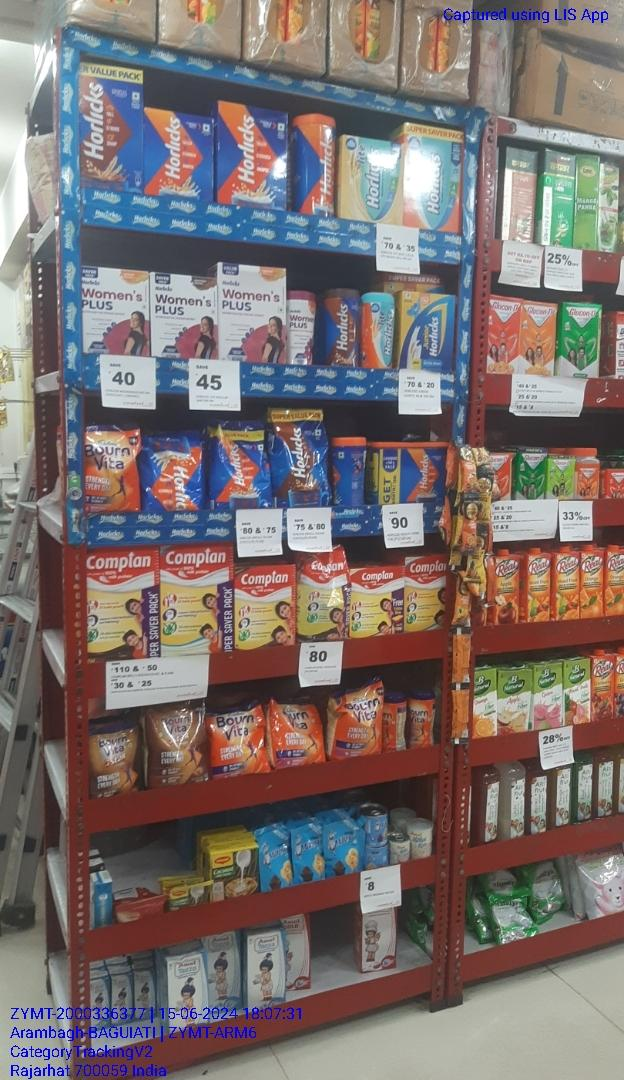BOURN_VITA_200_G_JAR: (408, 691, 433, 751), (383, 694, 403, 753)
BOURN_VITA_500_G_POUCH: (210, 707, 269, 777), (275, 697, 324, 765)
BOURN_VITA_750_G_POUCH: (338, 691, 382, 760)
BOURN_VITA_FIVE_STAR_MAGIC_500_G_POUCH: (89, 725, 138, 799)
BOURN_VITA_FIVE_STAR_MAGIC_750_G_POUCH: (145, 698, 204, 788)
COMPLAN_CHOCOLATE_1_KG_PACK: (87, 553, 157, 658)
COMPLAN_CREAMY_CLASSIC_500_G_PACK: (404, 554, 447, 634)
COMPLAN_RC_POUCH_700_GMS_12: (298, 551, 351, 644)
HORLICK_CHOCOLATE_1_KG_PACK: (78, 64, 143, 192)
HORLICK_CHOCOLATE_500_G_JAR: (328, 287, 360, 367)
HORLICK_CHOCOLATE_750_G_POUCH: (273, 407, 326, 509)
HORLICK_CLASSIC_MALT_500_G_JAR: (293, 112, 335, 216)
HORLICK_CLASSIC_MALT_500_G_PACK: (217, 101, 285, 211)
HORLICK_CLASSIC_MALT_750_G_POUCH: (143, 429, 203, 513), (215, 425, 269, 509)
HORLICK_MALT_1_KG_CONTAINER: (369, 438, 445, 505)
